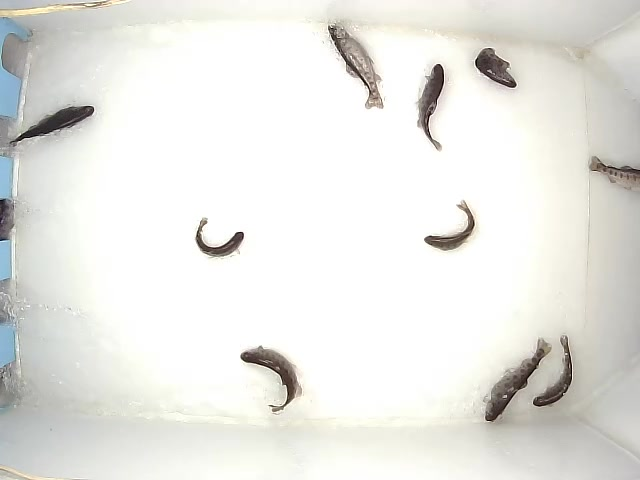fish: (481, 334, 550, 423), (326, 21, 386, 111), (238, 345, 305, 415), (5, 101, 98, 147), (413, 61, 449, 153), (531, 333, 574, 407), (422, 198, 476, 252), (195, 215, 246, 258), (474, 46, 519, 90)
